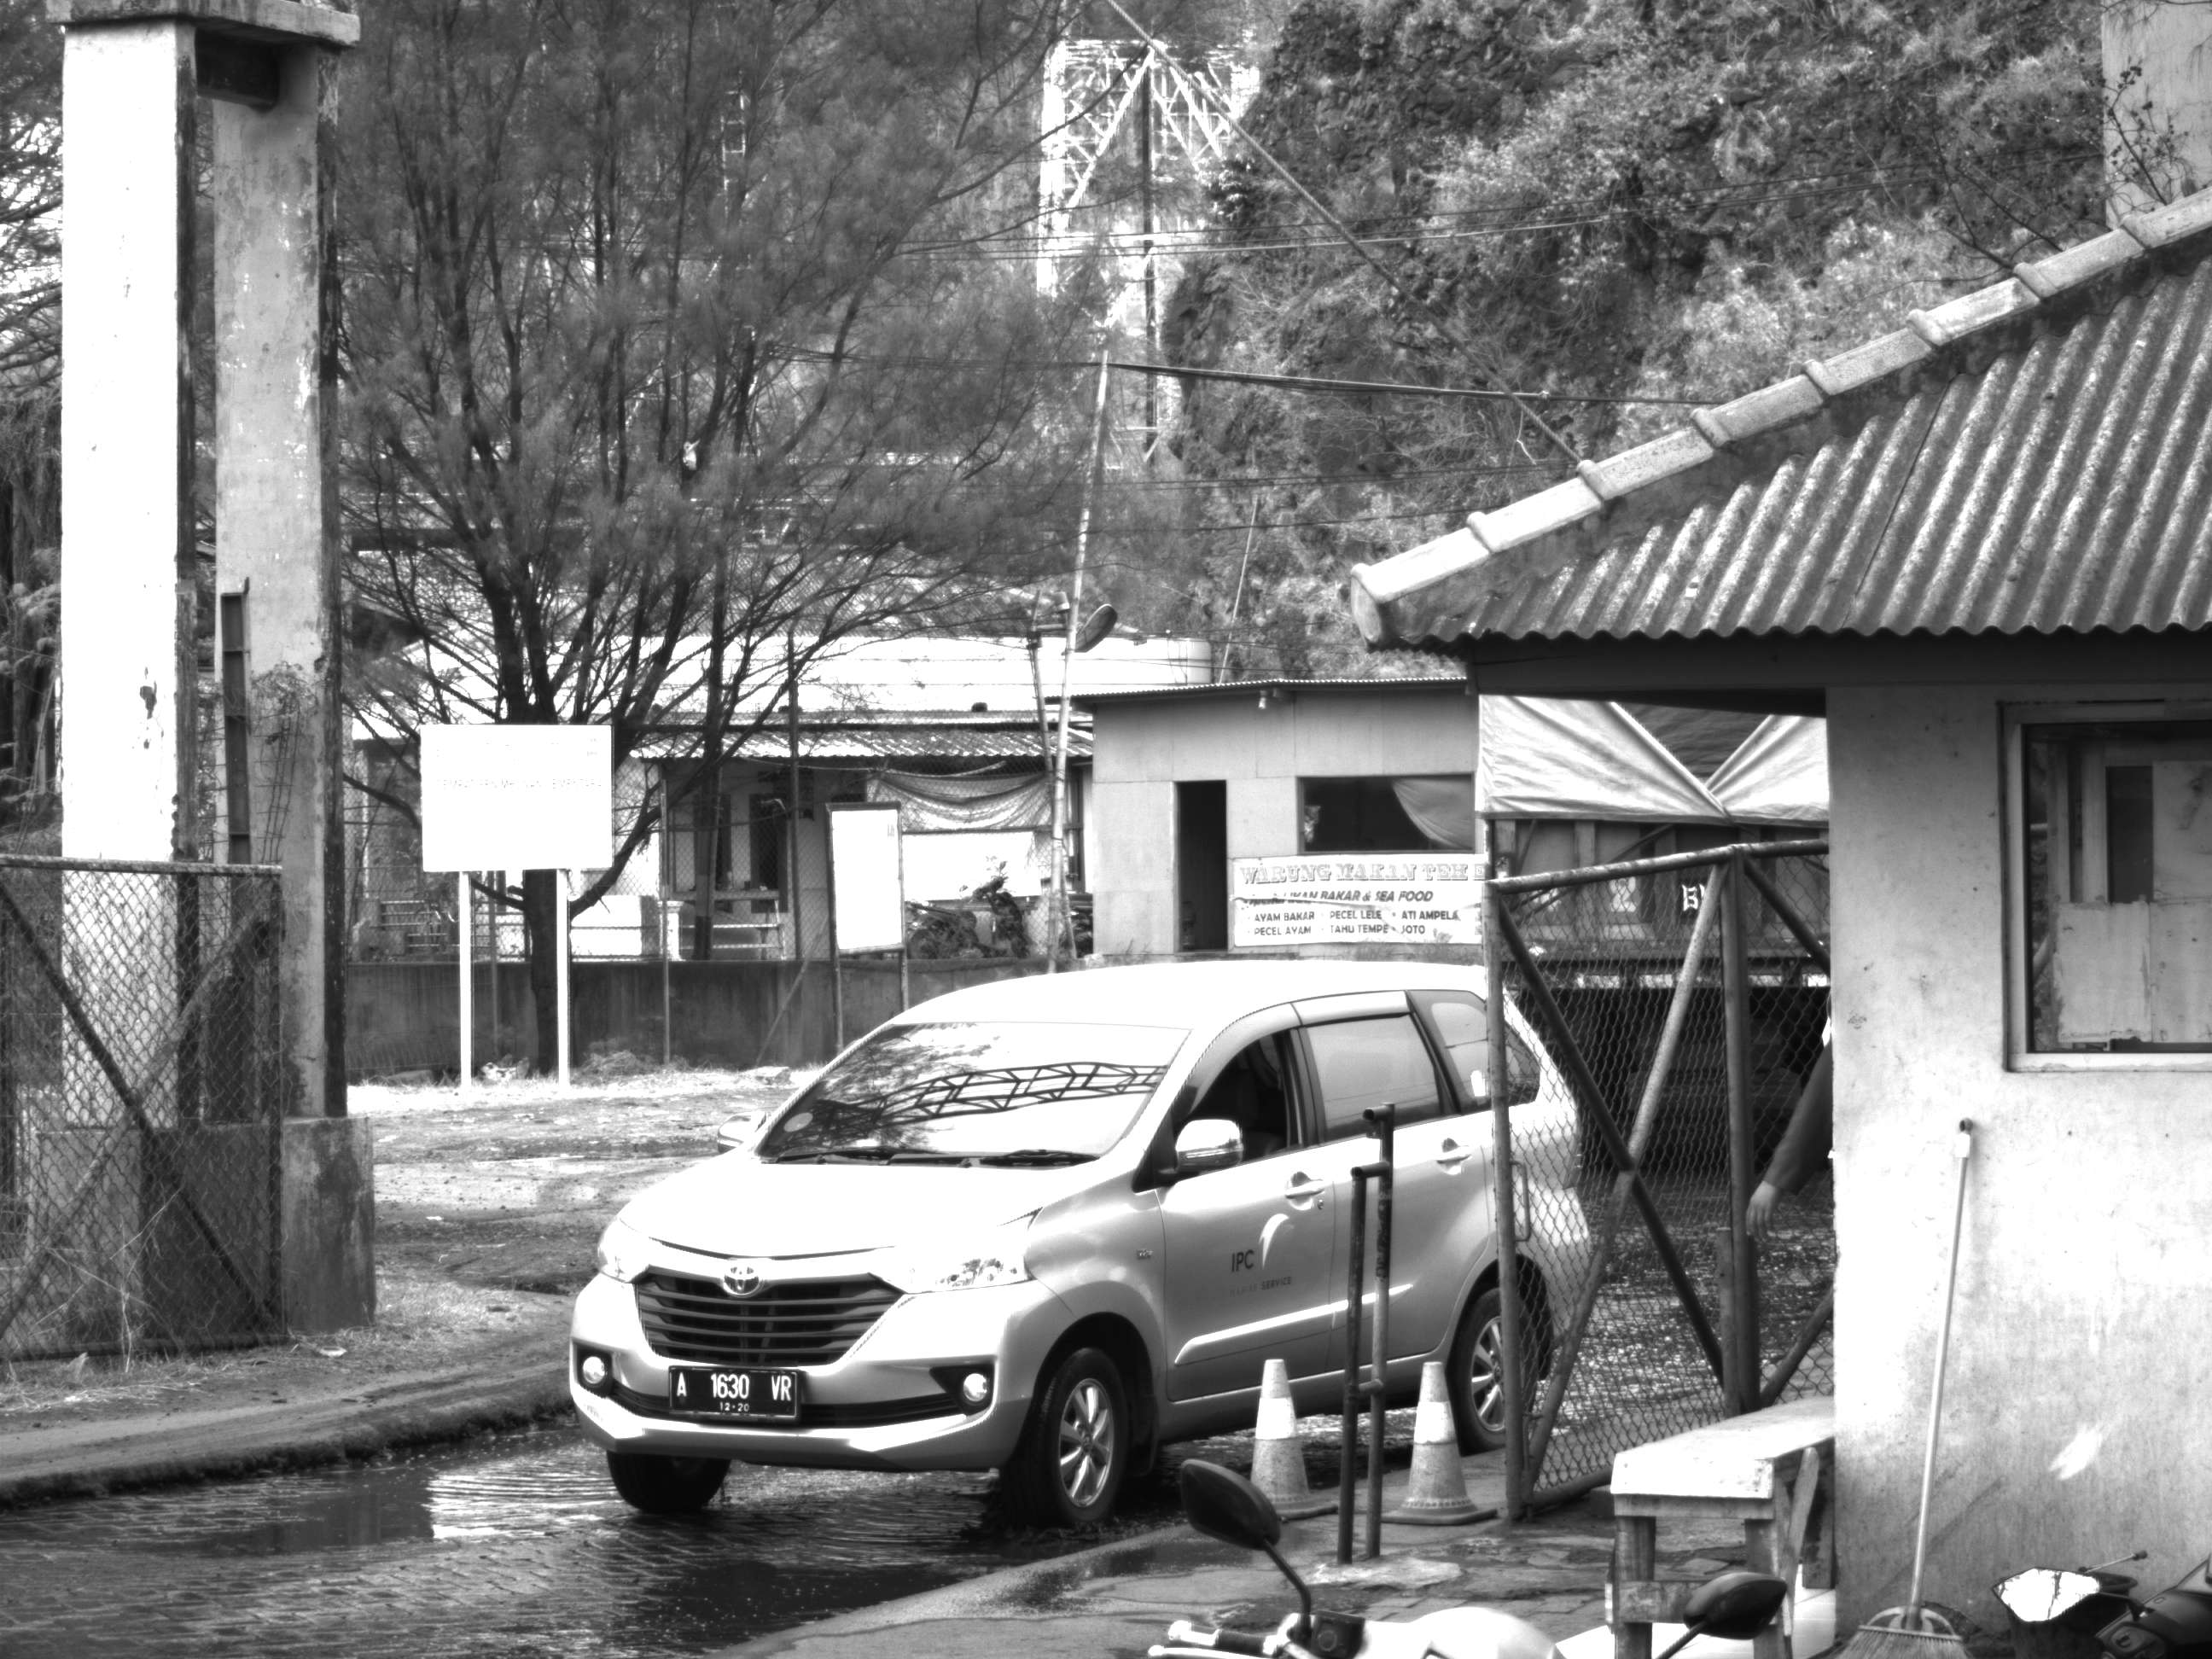day_small_front: (556, 975, 1152, 1538)
plate: (667, 1360, 804, 1423)
